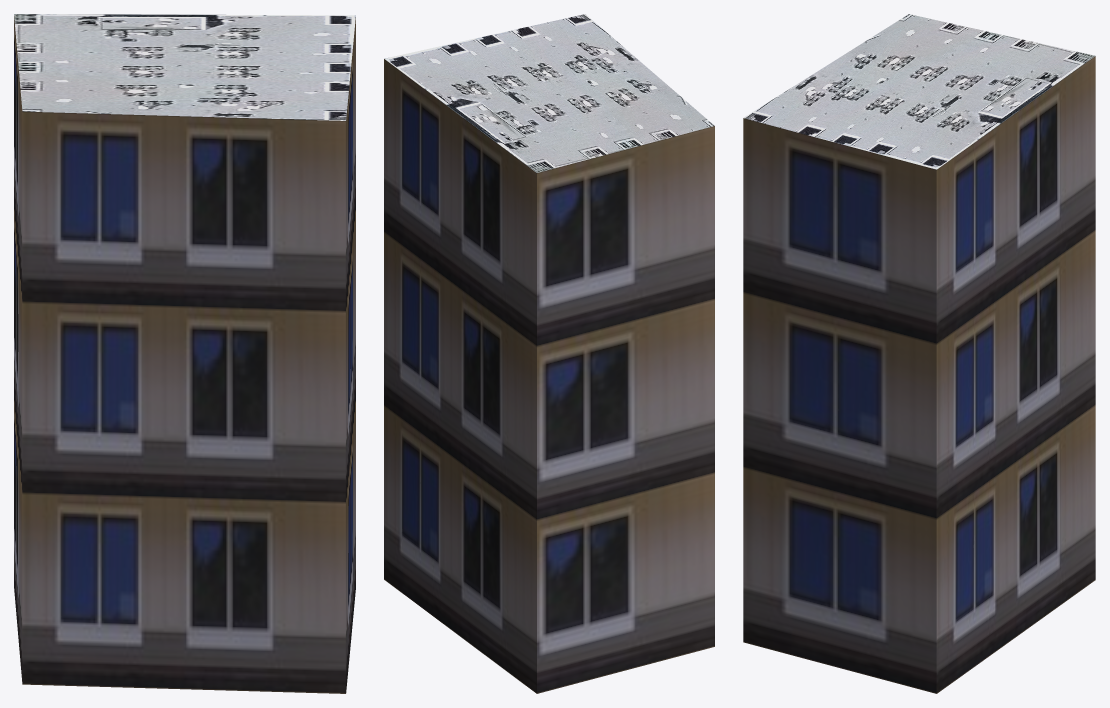
File: ResTex__491.fbx
3 renders of one model, left to right at view 1: azimuth 30°, elevation 25°; view 2: azimuth 150°, elevation 25°; view 3: azimuth 270°, elevation 25°, orthographic. The views are drawn at different scales.
Visible parts, largest first — view 1: CityEngineMaterial_5_m, CityEngineMaterial_8_m; view 2: CityEngineMaterial_5_m, CityEngineMaterial_8_m; view 3: CityEngineMaterial_5_m, CityEngineMaterial_8_m.
Part boxes in pixels (x1,y1,x2,y2): CityEngineMaterial_5_m: [14, 16, 355, 693]; CityEngineMaterial_8_m: [14, 14, 355, 120]; CityEngineMaterial_5_m: [384, 59, 714, 693]; CityEngineMaterial_8_m: [384, 14, 714, 172]; CityEngineMaterial_5_m: [743, 56, 1095, 693]; CityEngineMaterial_8_m: [744, 14, 1095, 169].
Bounding box in the file's own units: 5.73 × 9 × 5.49.
2 materials, 2 textured.
